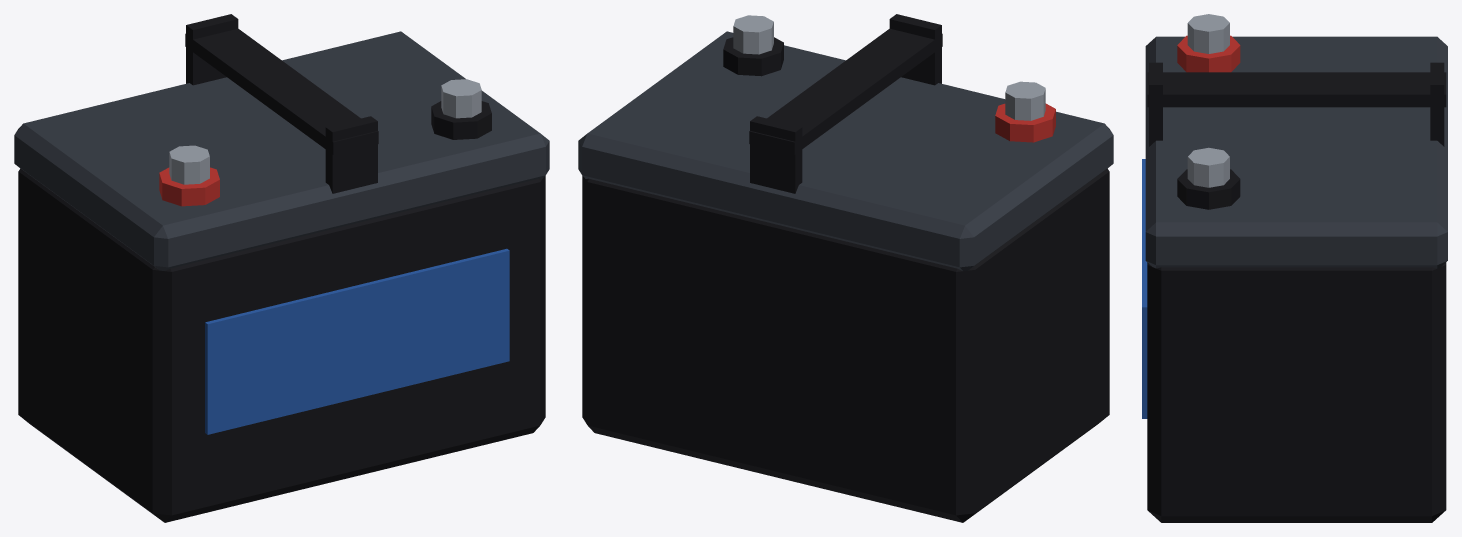
The model's file is Car_Battery.fbx.
3 renders of one model, left to right at view 1: azimuth 30°, elevation 25°; view 2: azimuth 150°, elevation 25°; view 3: azimuth 270°, elevation 25°, orthographic.
Visible parts, largest first — view 1: Car_Battery; view 2: Car_Battery; view 3: Car_Battery.
Part boxes in pixels (box(x1,y1,x2,y2)): Car_Battery: box(14, 14, 549, 522); Car_Battery: box(578, 14, 1113, 522); Car_Battery: box(1142, 14, 1447, 522).
Bounding box in the file's own units: 0.262 × 0.225 × 0.174.
1 material, 1 textured.
